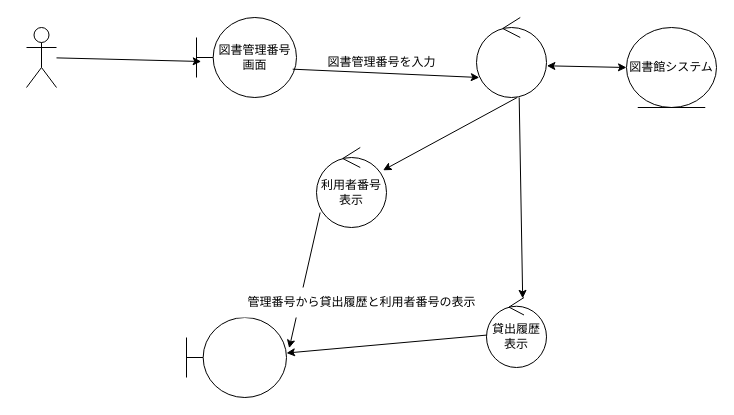
Image size: 734x415. Some labels were removed from this diagram. Each missing label, with the centre of its shape:
"ユーザー" goes at point (41, 57).
"管理番号表示" goes at point (511, 57).
"貸出履歴画面" goes at point (236, 357).
